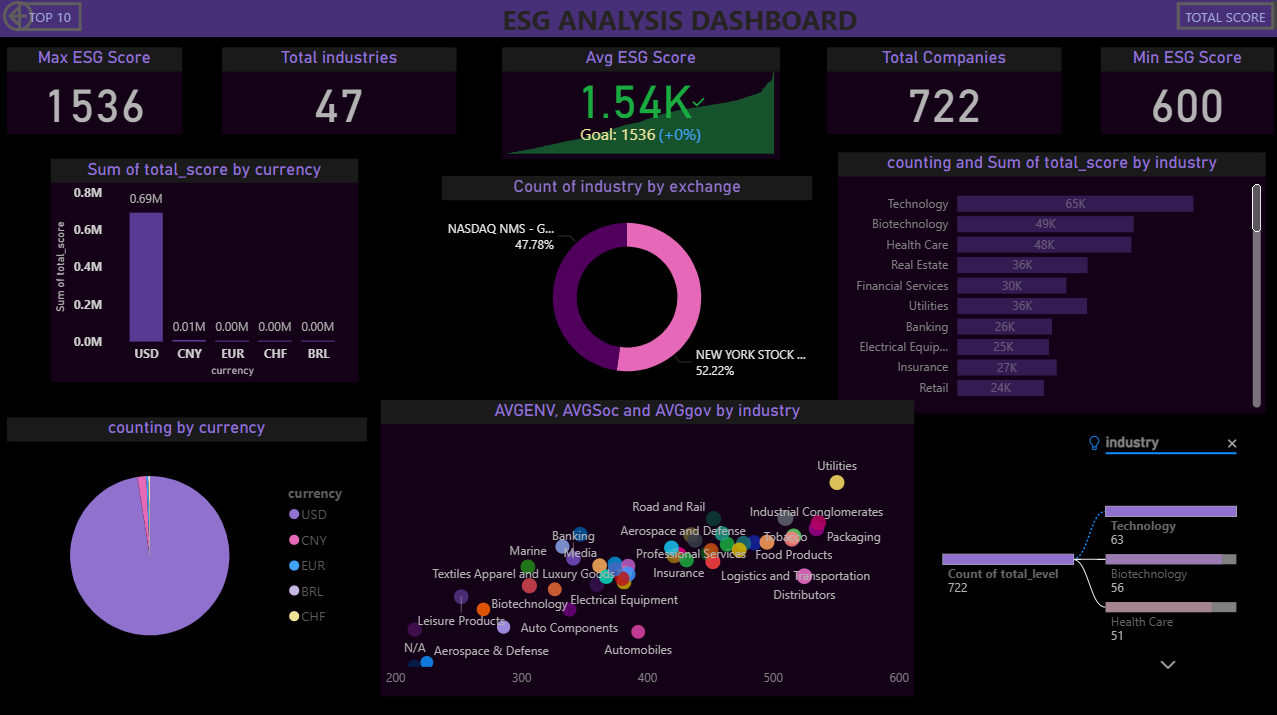

The page's visual inventory and layout, read from the dashboard file:
{"tool":"powerbi","page":{"name":"ESG Main Dashboard","canvas":[1280,720],"ordinal":0},"visuals":[{"type":"shape","box":[0,0,1280.2,719.8],"z":0},{"type":"textbox","box":[0,0,1280,41.1],"z":1000},{"type":"columnChart","fields":{"Category":["ESG Data.currency"],"Y":["Sum(ESG Data.total_score)"]},"box":[51.9,161.7,306.2,222.2],"z":2000},{"type":"donutChart","fields":{"Category":["ESG Data.exchange"],"Y":["CountNonNull(ESG Data.industry)"]},"box":[442,179,369.1,222.2],"z":3000},{"type":"decompositionTreeVisual","fields":{"ExplainBy":["ESG Data.industry"],"Analyze":["CountNonNull(ESG Data.total_level)"]},"box":[911.1,419.8,350.6,272.8],"z":4000},{"type":"kpi","title":"Avg ESG Score","fields":{"Indicator":["ESG Data.Avg"],"TrendLine":["ESG Data.total_score"],"Goal":["ESG Data.maxscore"]},"box":[501.2,50.6,276.5,111.1],"z":5000},{"type":"card","title":"Max ESG Score","fields":{"Values":["ESG Data.maxscore"]},"box":[8.6,50.6,174.1,86.4],"z":6000},{"type":"card","title":"Min ESG Score","fields":{"Values":["ESG Data.minscore"]},"box":[1097.5,50.6,172.8,86.4],"z":7000},{"type":"card","title":"Total industries","fields":{"Values":["Count(ESG Data.industry)"]},"box":[222.2,50.6,233.3,86.4],"z":8000},{"type":"card","title":"Total Companies","fields":{"Values":["CountNonNull(ESG Data.industry)"]},"box":[824.7,50.6,233.3,86.4],"z":9000},{"type":"barChart","fields":{"Category":["ESG Data.industry"],"Y":["ESG Data.counting","Sum(ESG Data.total_score)"]},"box":[835.8,155.6,425.9,259.3],"z":10000},{"type":"pieChart","fields":{"Y":["ESG Data.counting"],"Category":["ESG Data.currency"]},"box":[8.6,419.8,358,256.8],"z":11000},{"type":"scatterChart","fields":{"X":["ESG Data.AVGENV"],"Y":["ESG Data.AVGSoc"],"Size":["ESG Data.AVGgov"],"Series":["ESG Data.industry"]},"box":[380.2,401.2,530.9,295.1],"z":12000},{"type":"actionButton","box":[0,0,100,40],"z":13000},{"type":"actionButton","title":"Total Score","box":[1173.1,6.2,97,27.4],"z":13001},{"type":"actionButton","title":"Total Score","box":[19.9,6.2,63.4,28.6],"z":13002}]}

Visuals, with their boxes in screenshot pixels (x1, y1, x2, y2), scaled from the page's 1280x720 canvas onto the 1277x715 screenshot:
shape: detection(0, 0, 1276, 714)
textbox: detection(0, 0, 1276, 41)
columnChart - ESG Data.currency x Sum(ESG Data.total_score): detection(52, 161, 357, 381)
donutChart - ESG Data.exchange x CountNonNull(ESG Data.industry): detection(441, 178, 809, 398)
decompositionTreeVisual - ESG Data.industry x CountNonNull(ESG Data.total_level): detection(909, 417, 1259, 688)
"Avg ESG Score" kpi: detection(500, 50, 776, 161)
"Max ESG Score" card: detection(9, 50, 182, 136)
"Min ESG Score" card: detection(1095, 50, 1267, 136)
"Total industries" card: detection(222, 50, 454, 136)
"Total Companies" card: detection(823, 50, 1056, 136)
barChart - ESG Data.industry x ESG Data.counting: detection(834, 155, 1259, 412)
pieChart - ESG Data.counting x ESG Data.currency: detection(9, 417, 366, 672)
scatterChart - ESG Data.AVGENV x ESG Data.AVGSoc: detection(379, 398, 909, 691)
actionButton: detection(0, 0, 100, 40)
"Total Score" actionButton: detection(1170, 6, 1267, 33)
"Total Score" actionButton: detection(20, 6, 83, 35)
